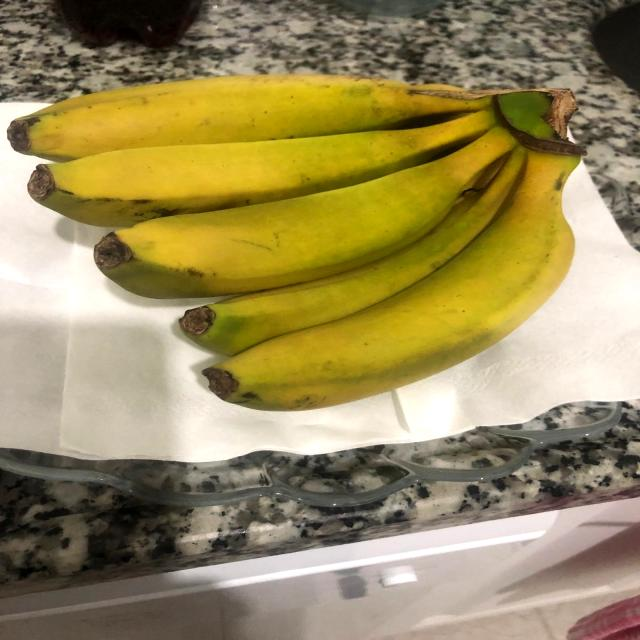banana: (0, 43, 617, 425), (20, 88, 556, 307)
